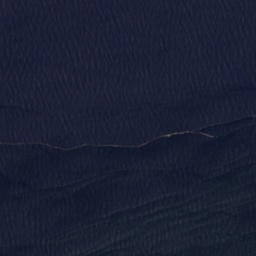Marine Debris: (0, 128, 216, 152)
